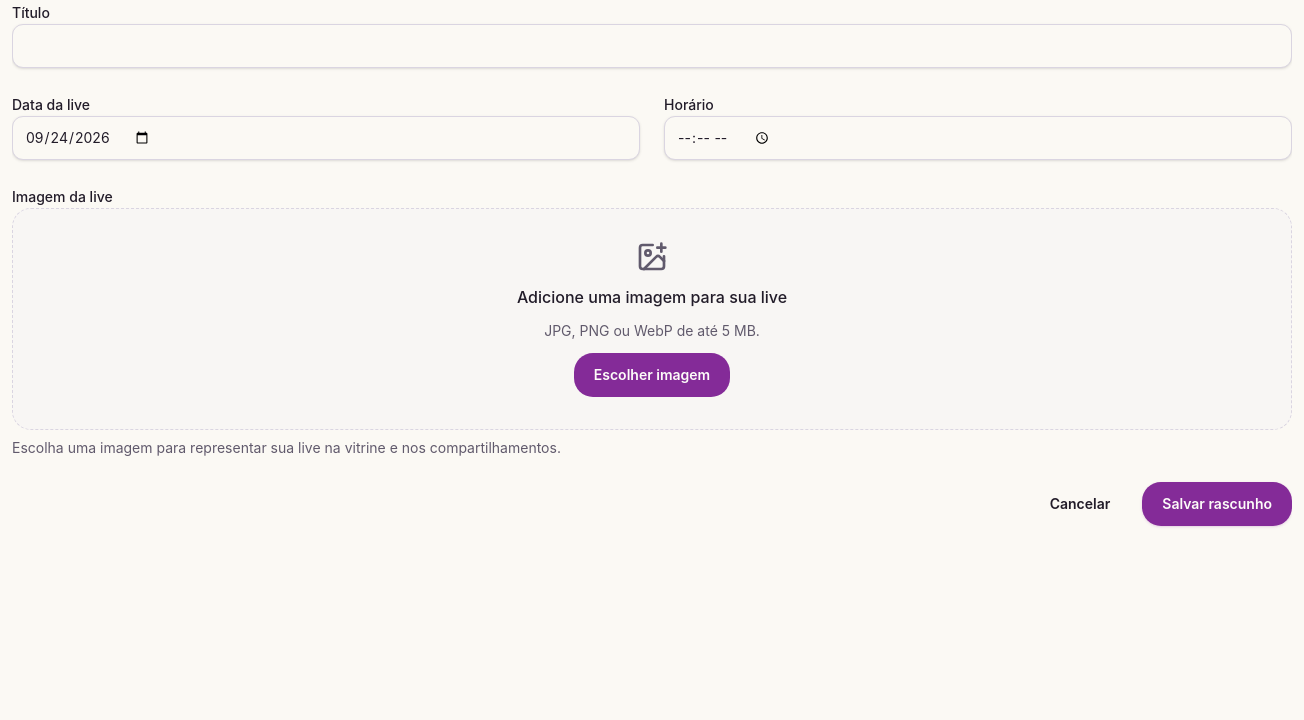
LiveForm › shows a validation error for a short title
Click the button "Salvar rascunho".
click(1217, 504)  # box [1142,482,1292,526]
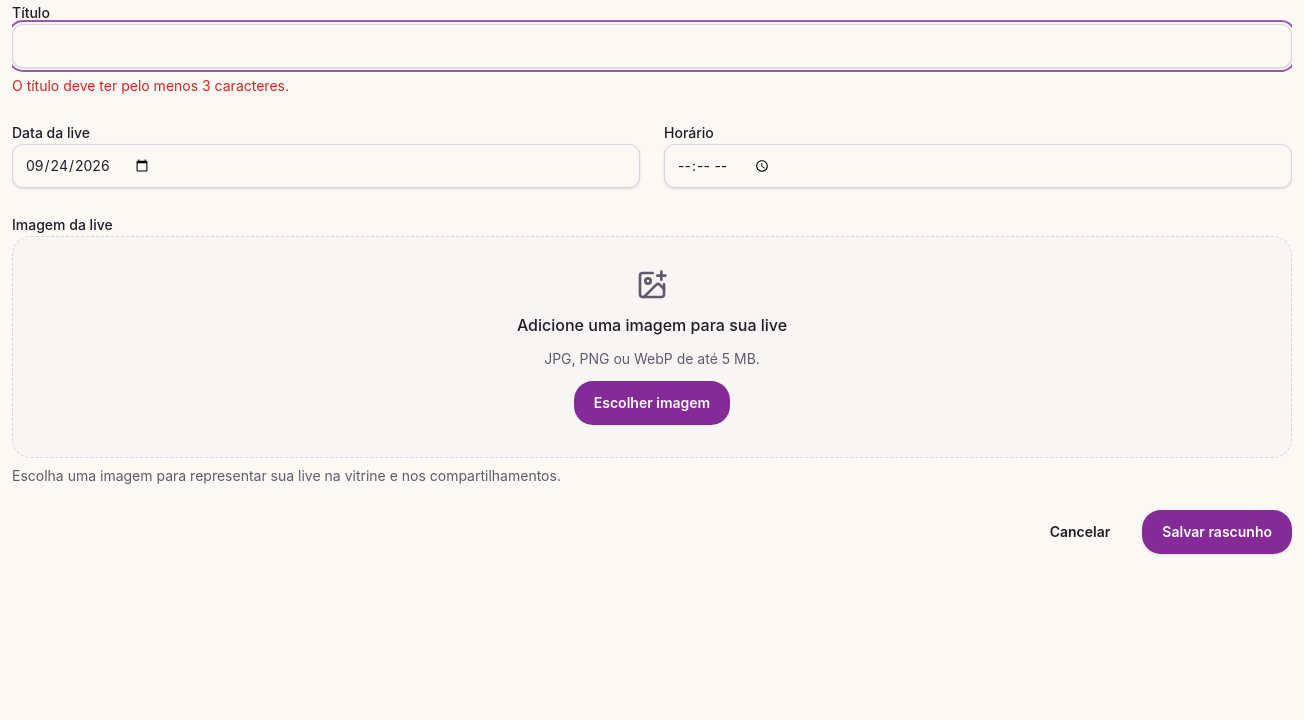
Expected: the text "O título deve ter pelo menos 3 caracteres." is shown, [12,77,289,94]
